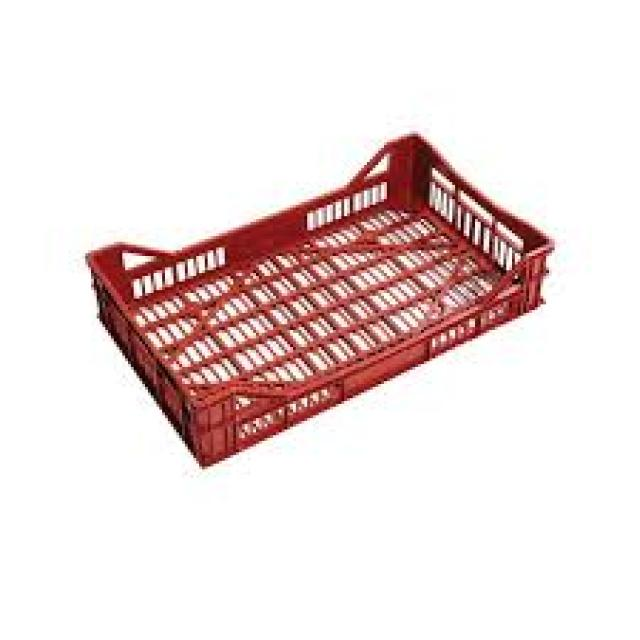basket: (73, 71, 577, 482)
